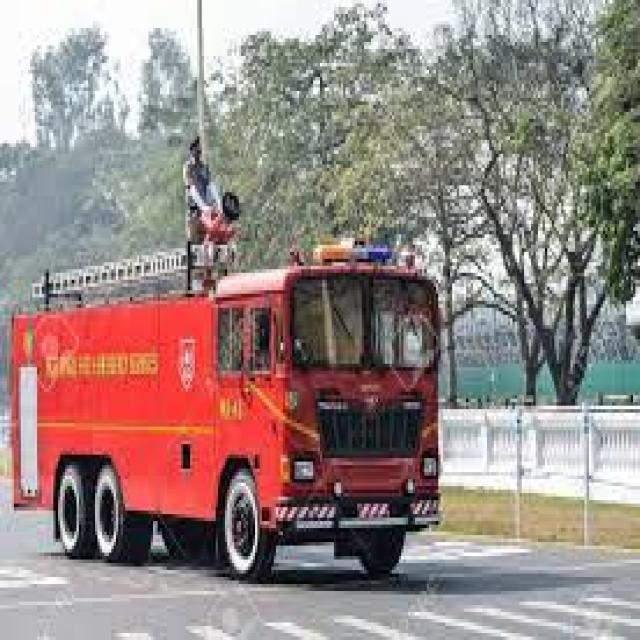Fire_brigade: (2, 248, 454, 598)
